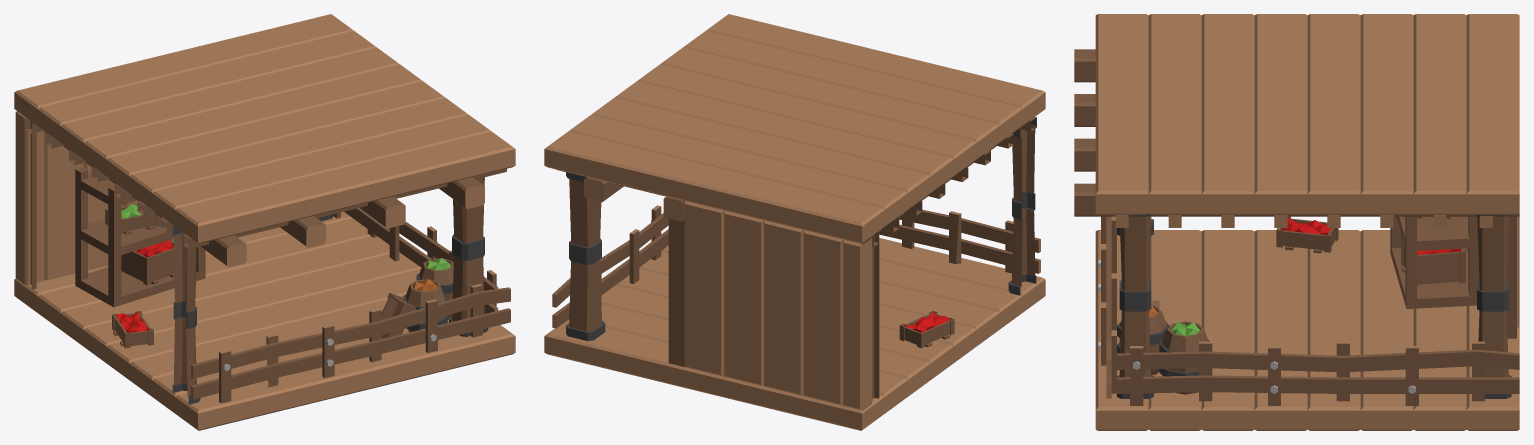
Rendered from FoodStorage_Lvl_01_Corner_Right.fbx.
3 renders of one model, left to right at view 1: azimuth 30°, elevation 25°; view 2: azimuth 150°, elevation 25°; view 3: azimuth 270°, elevation 25°, orthographic. The views are drawn at different scales.
Visible parts, largest first — view 1: FoodStorage_Lvl_01_Corner_Right; view 2: FoodStorage_Lvl_01_Corner_Right; view 3: FoodStorage_Lvl_01_Corner_Right.
Boxes of the visible parts, x1,y1,x2,y2 form: FoodStorage_Lvl_01_Corner_Right: (14, 14, 515, 430); FoodStorage_Lvl_01_Corner_Right: (544, 14, 1045, 430); FoodStorage_Lvl_01_Corner_Right: (1074, 14, 1519, 430).
Bounding box in the file's own units: 8 × 5 × 8.4.
